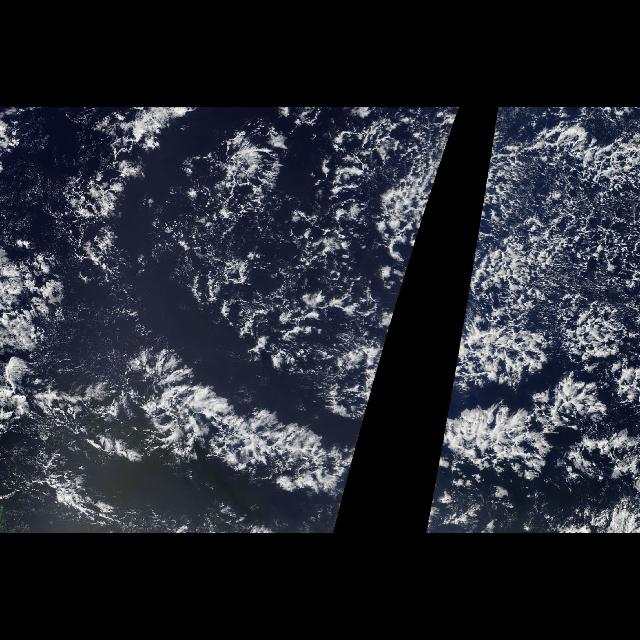Fish: (8, 253, 354, 519)
Flower: (475, 219, 639, 521)
Gravel: (488, 108, 638, 366)
